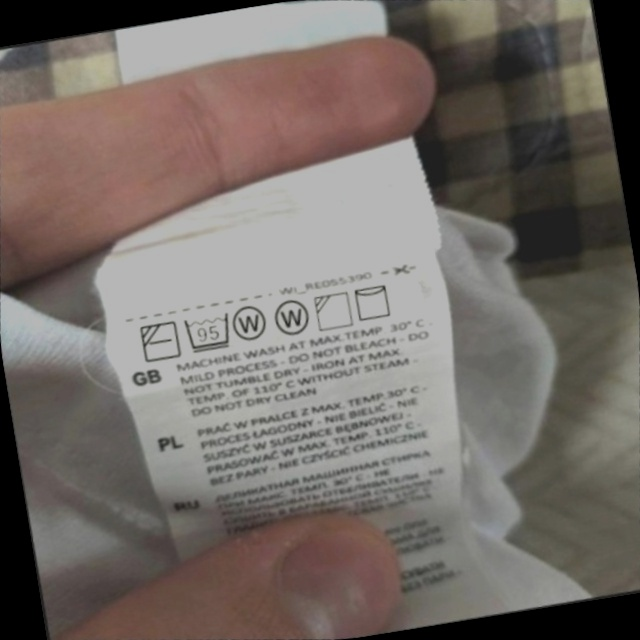95C: (174, 300, 243, 363)
dry_flat_in_shade: (129, 310, 190, 373)
line_dry: (344, 272, 403, 331)
shade_dry: (304, 281, 363, 341)
wet_clean: (264, 289, 321, 347), (223, 292, 279, 351)
